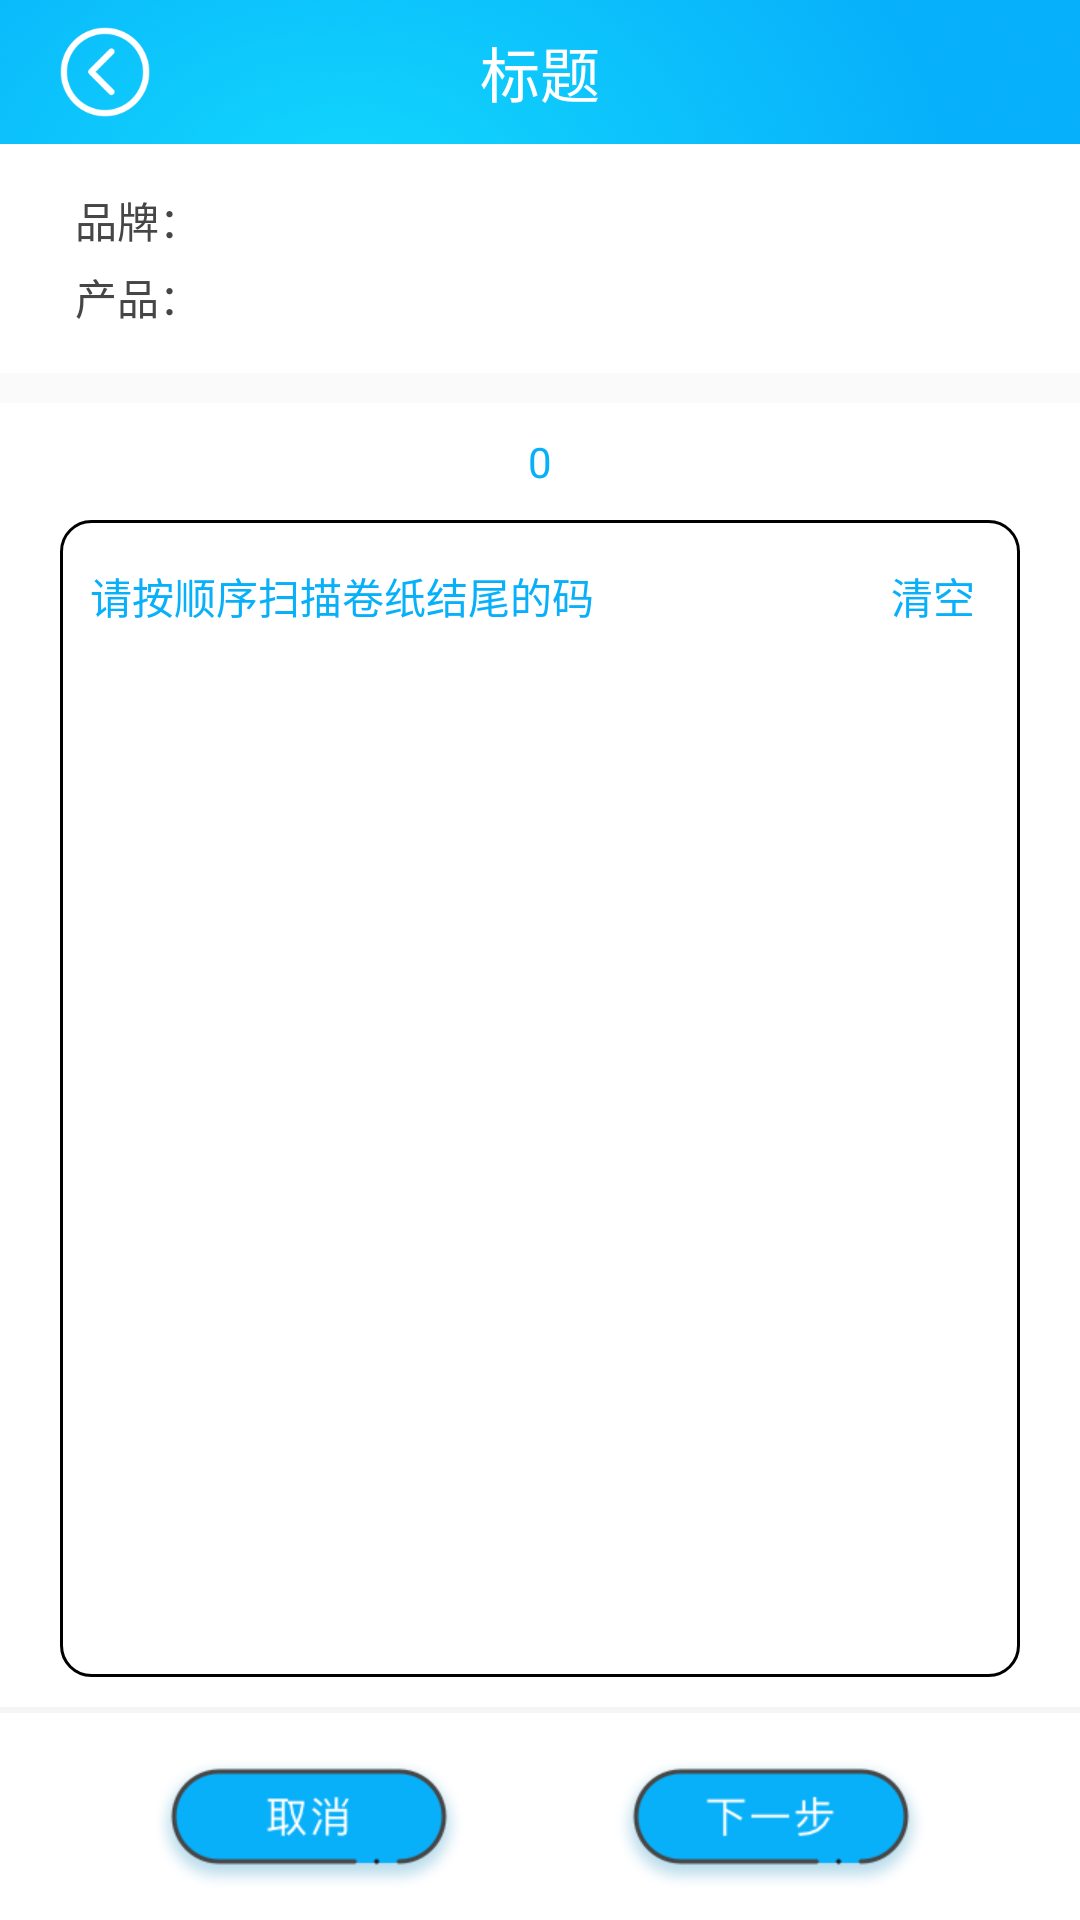

Icon click points for this 1080*1920 phone screenshot, format (x,y):
back: (105,72)
